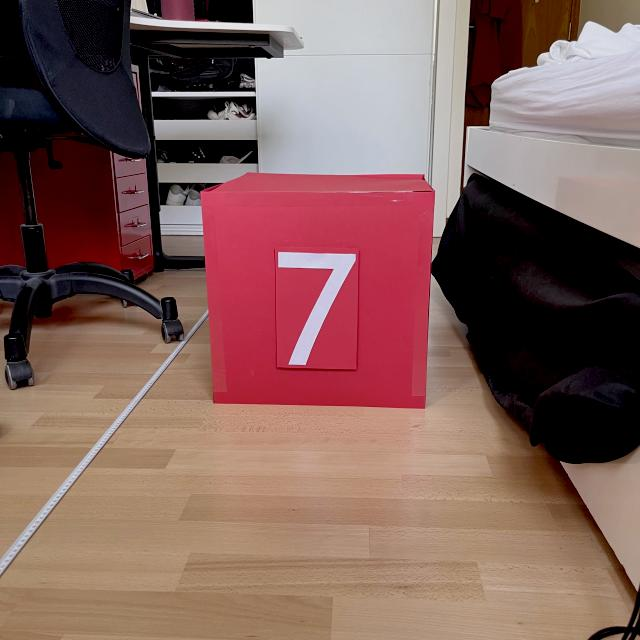box: (195, 168, 437, 411)
